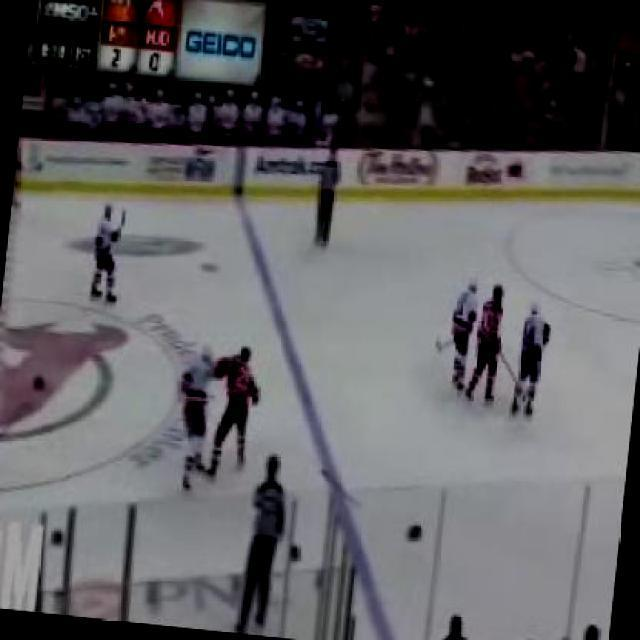fight: (157, 332, 270, 498)
non-fight: (222, 444, 301, 636), (501, 294, 561, 416), (464, 278, 514, 404), (80, 196, 134, 304), (439, 274, 479, 392), (306, 137, 346, 246)
